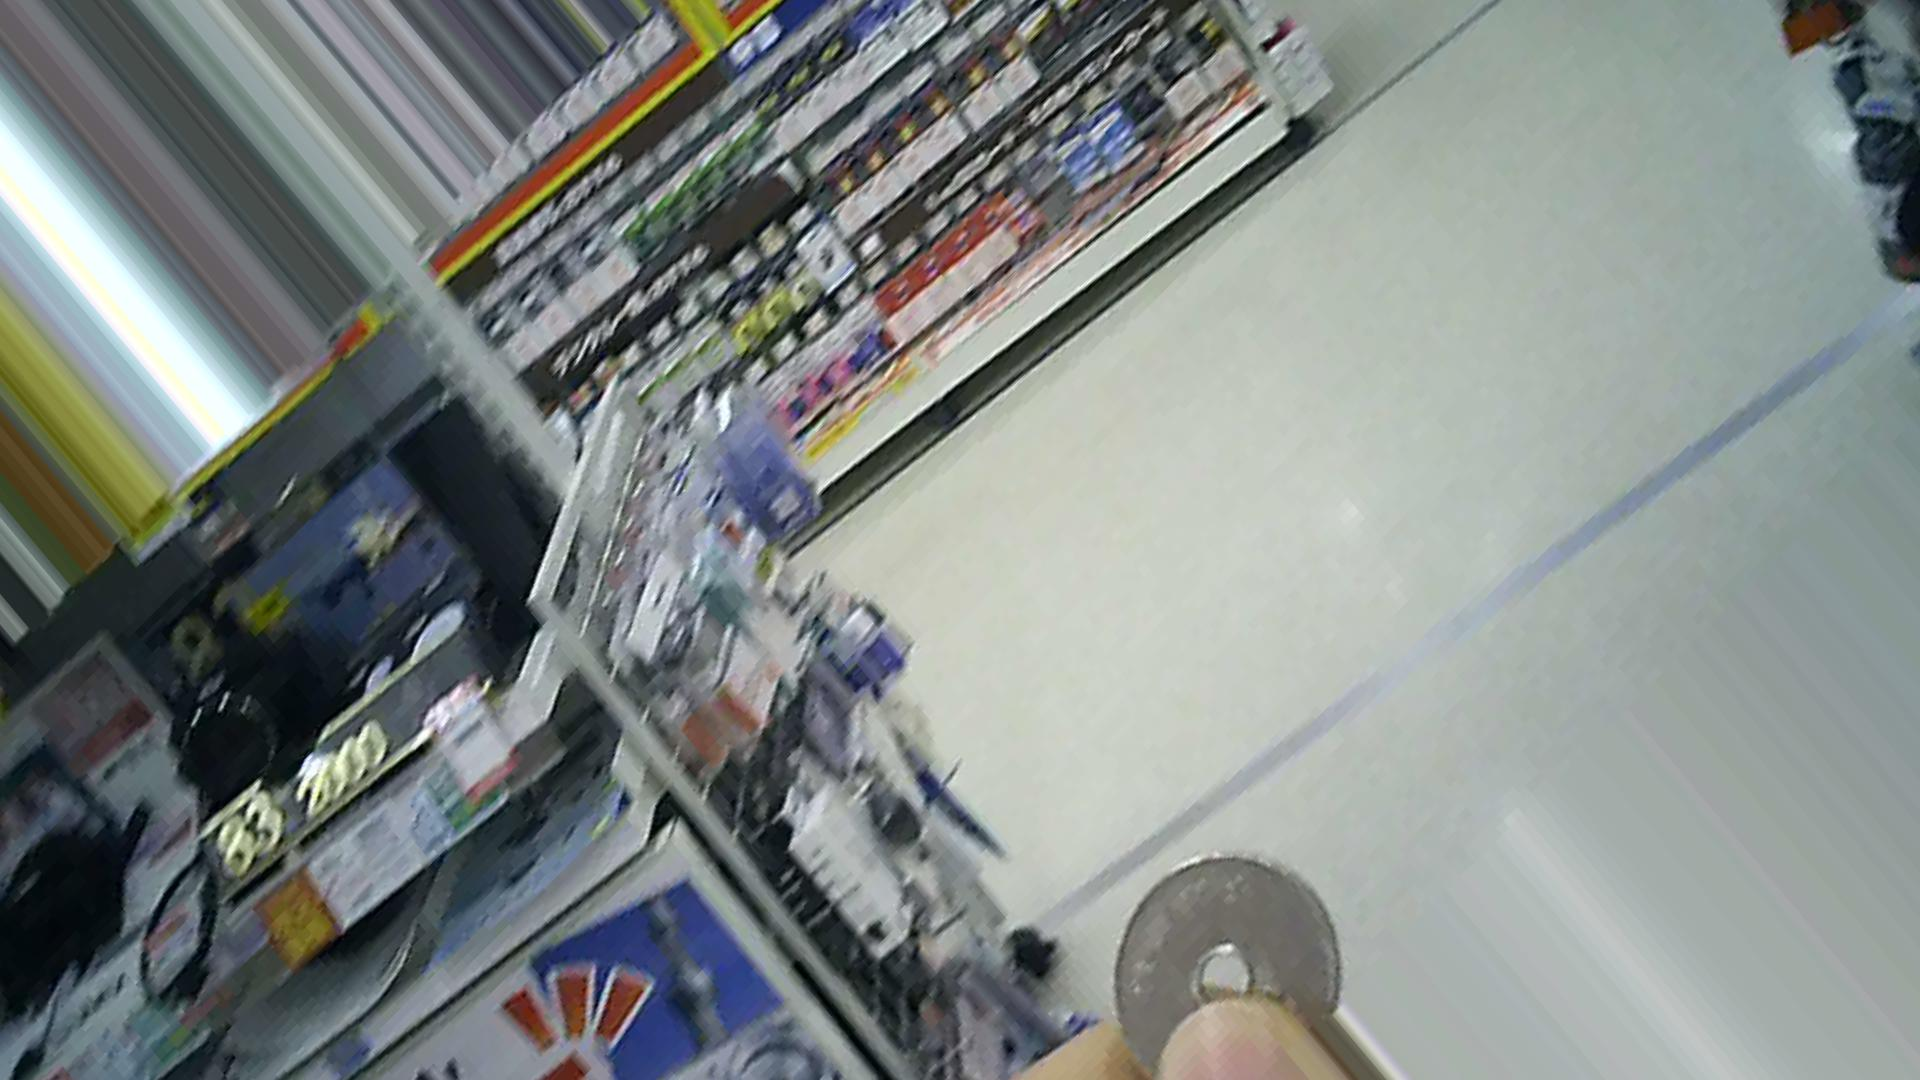50 Yen: (1116, 860, 1344, 1069)
